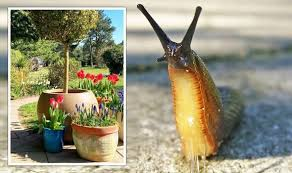slug: (137, 3, 240, 151)
